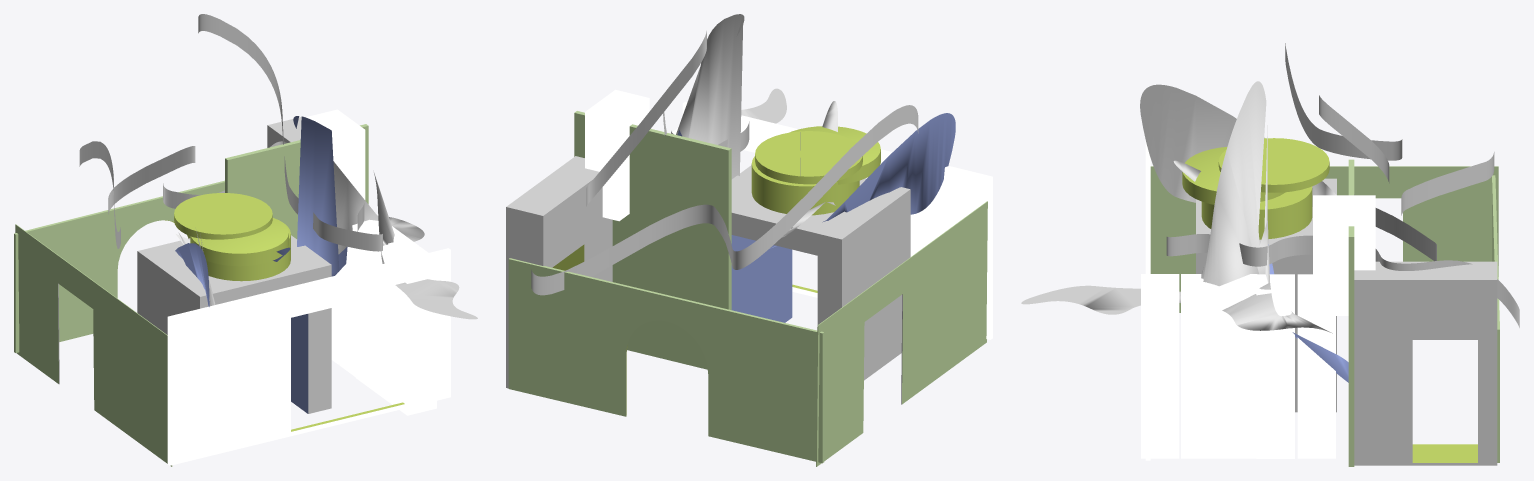
File: greenhousse2.gltf
3 views of the same model, side by side, from view 1: azimuth 30°, elevation 25°; view 2: azimuth 150°, elevation 25°; view 3: azimuth 270°, elevation 25° (orthographic). The views are drawn at different scales.
Parts seen in each view (by area): view 1: Cube_3_4, Cube_2, Cube_3_2, Cube_1, Cube_3, Extrude, Cap_1, Cube_7, Cap_2, Oil_Tank_2, Oil_Tank_1, Cube (+7 smaller); view 2: Cube_1, Cube_2, Cube_7, Cube_3_2, Extrude, Cube_3_5, Cap_2, Cube_3_4, Cap_1, Cube_2_3, Oil_Tank_2, Cube_3_3 (+2 smaller); view 3: Cube_3_5, Cap_2, Cube_2, Extrude, Cube, Cube_3, Cube_5, Cube_2_3, Cube_6, Cube_4, Oil_Tank_2, Oil_Tank (+7 smaller).
Boxes of the visible parts, x1,y1,x2,y2 form: Cube_3_4: (167, 248, 450, 465); Cube_2: (15, 224, 172, 466); Cube_3_2: (137, 235, 331, 413); Cube_1: (14, 180, 224, 352); Cube_3: (390, 246, 436, 415); Extrude: (79, 14, 382, 251); Cap_1: (175, 116, 347, 306); Cube_7: (225, 124, 368, 239); Cap_2: (176, 161, 477, 319); Oil_Tank_2: (174, 193, 272, 239); Oil_Tank_1: (190, 218, 288, 266); Cube: (372, 233, 418, 402); Cube_1: (508, 258, 824, 463); Cube_2: (816, 201, 987, 466); Cube_7: (574, 111, 731, 369); Cube_3_2: (731, 165, 910, 380); Extrude: (531, 31, 918, 295); Cube_3_5: (506, 156, 612, 388); Cap_2: (676, 14, 837, 238); Cube_3_4: (682, 101, 992, 339); Cap_1: (677, 113, 955, 248); Cube_2_3: (585, 89, 649, 221); Oil_Tank_2: (755, 131, 862, 184); Cube_3_3: (731, 235, 792, 322); Cube_3_5: (1354, 261, 1497, 465); Cap_2: (1021, 81, 1336, 333); Cube_2: (1150, 166, 1498, 312); Extrude: (1166, 43, 1519, 327); Cube: (1181, 274, 1219, 458); Cube_3: (1141, 274, 1179, 458); Cube_5: (1256, 274, 1294, 458); Cube_2_3: (1313, 195, 1375, 315); Cube_6: (1219, 274, 1257, 458); Cube_4: (1297, 274, 1335, 458); Oil_Tank_2: (1218, 138, 1329, 192); Oil_Tank: (1201, 186, 1312, 239).
Size of the model in its own units: 20.42 by 21.85 by 25.98.
